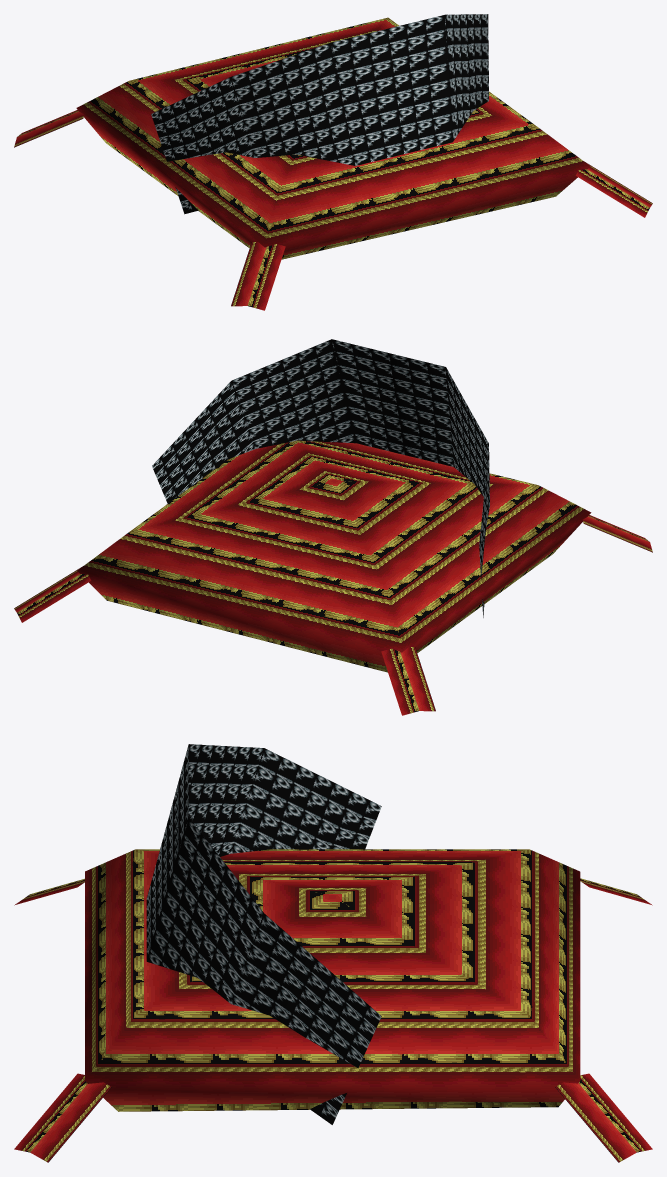
The model's file is 5596uc_ac_hed7_d.gltf.
The picture shows the model from 3 angles, top to bottom: view 1: azimuth 30°, elevation 25°; view 2: azimuth 150°, elevation 25°; view 3: azimuth 270°, elevation 25°; orthographic projection. The views are drawn at different scales.
Parts seen in each view (by area): view 1: 5596uc_ac_hed7_d; view 2: 5596uc_ac_hed7_d; view 3: 5596uc_ac_hed7_d.
Part boxes in pixels (x1,y1,x2,y2): 5596uc_ac_hed7_d: [14, 14, 652, 310]; 5596uc_ac_hed7_d: [14, 339, 652, 715]; 5596uc_ac_hed7_d: [14, 744, 652, 1162].
Size of the model in its own units: 0.998 by 0.4944 by 0.9946.
Materials: 4 (4 with a texture image).
